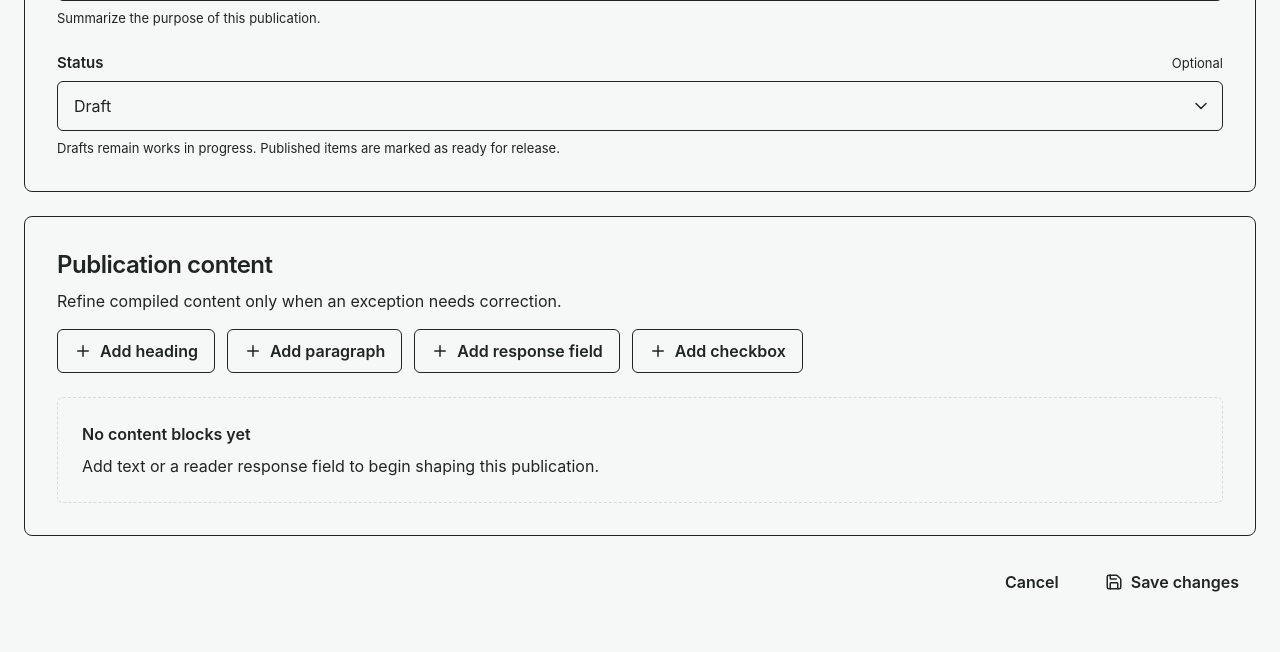
Test case: PublicationEditorPage › adds headings at level 2 by default
(page scrolled)
Click the button "Add heading" at (136, 350), box [57,328,215,372]
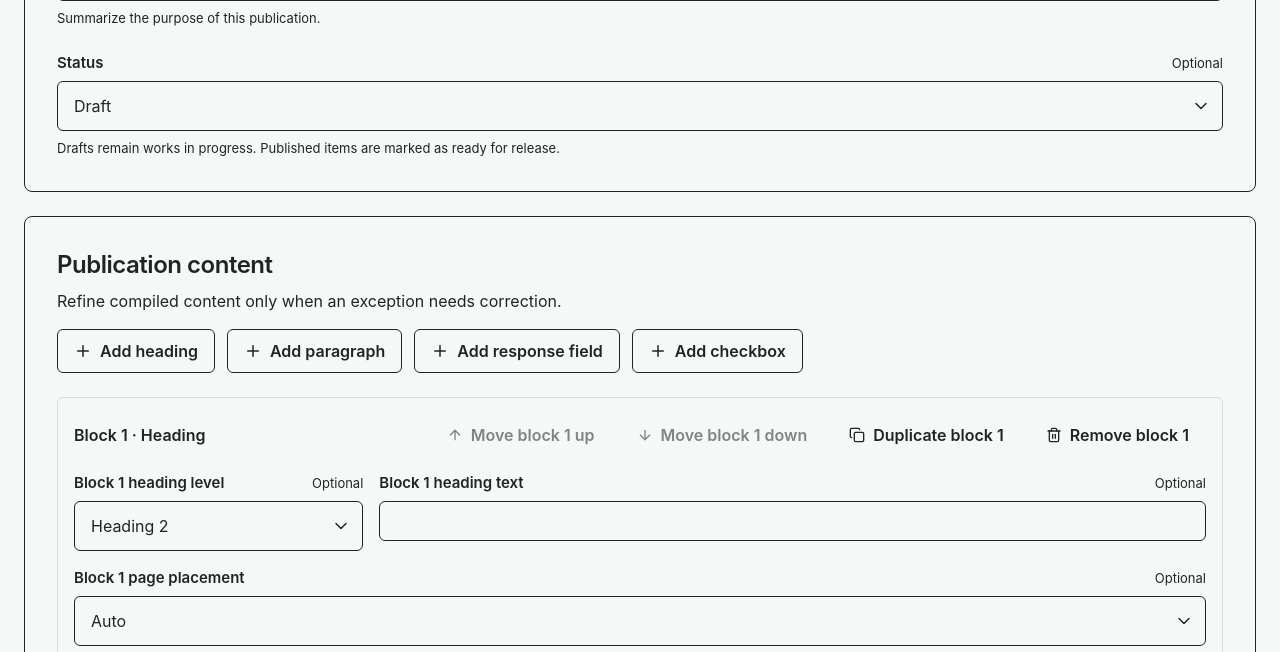
Expected: the text "Block 1 · Heading" is shown, [74,422,206,446]
Expected: the dropdown labelled "Block 1 heading level" shows "Heading 2", [74,500,363,550]
